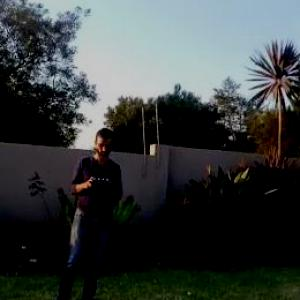follow: (43, 122, 126, 299)
